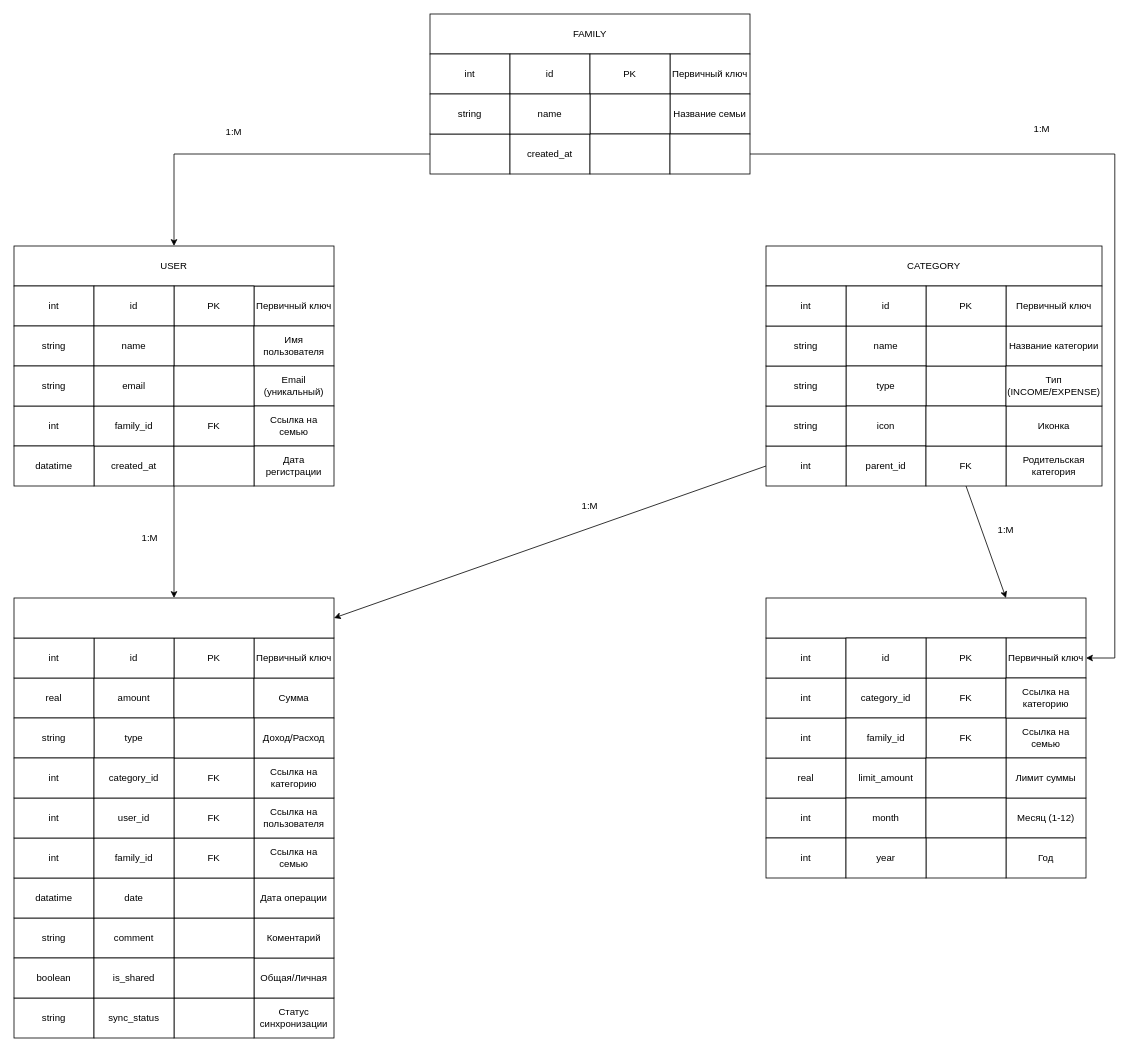
This 1135x1052 diagram has some shape labels left out. Each missing label, with the box of its shape:
BUDGET: (765, 597, 1086, 638)
datetime: (429, 133, 510, 174)
OPERATION: (13, 597, 334, 638)
Дата создания: (669, 133, 750, 174)
